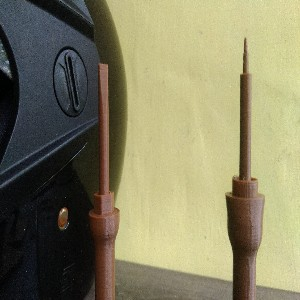obeng: (87, 62, 121, 300)
solder: (224, 36, 267, 300)
